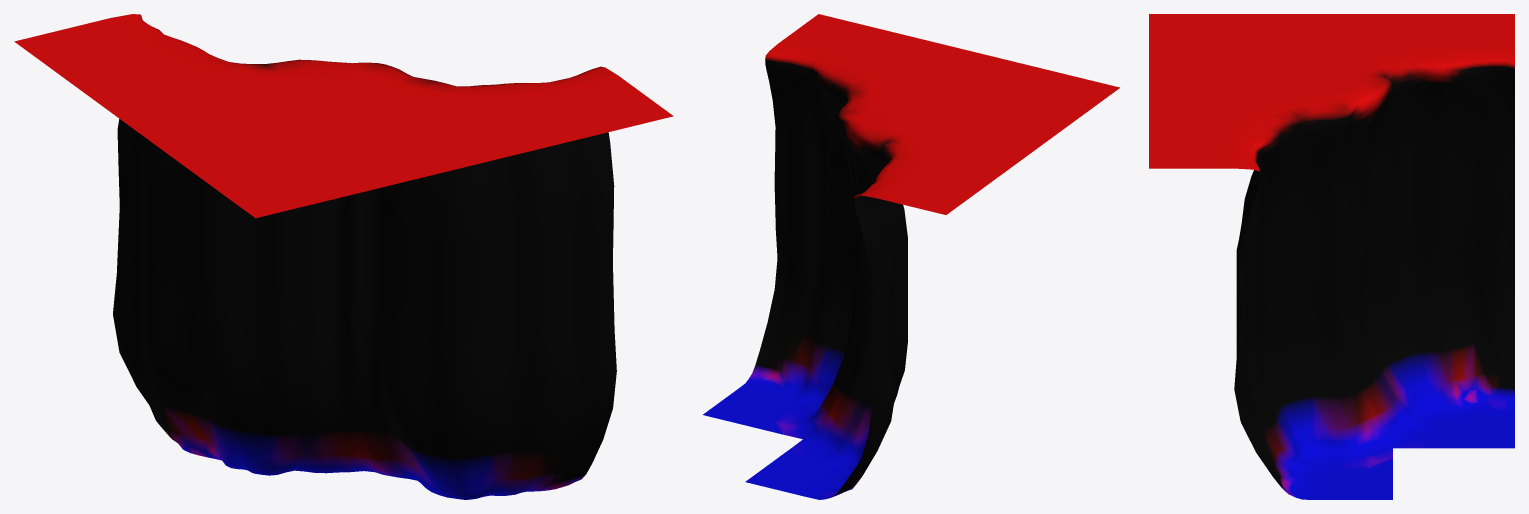
Rendered from GroundCliff04A 3M for Water Foreground.fbx.
3 renders of one model, left to right at view 1: azimuth 30°, elevation 25°; view 2: azimuth 150°, elevation 25°; view 3: azimuth 270°, elevation 25°, orthographic. The views are drawn at different scales.
Parts seen in each view (by area): view 1: GroundCliff04A 3M for Water Foreground; view 2: GroundCliff04A 3M for Water Foreground; view 3: GroundCliff04A 3M for Water Foreground.
Boxes of the visible parts, x1=… form: GroundCliff04A 3M for Water Foreground: x1=14, y1=14, x2=673, y2=499; GroundCliff04A 3M for Water Foreground: x1=703, y1=14, x2=1119, y2=499; GroundCliff04A 3M for Water Foreground: x1=1149, y1=14, x2=1514, y2=499.
Bounding box in the file's own units: 3 × 3 × 3.
